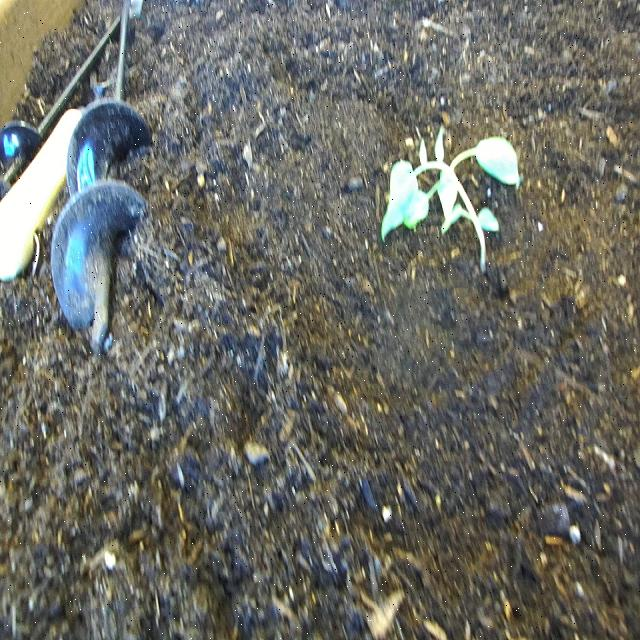Healthy: (379, 116, 523, 292)
